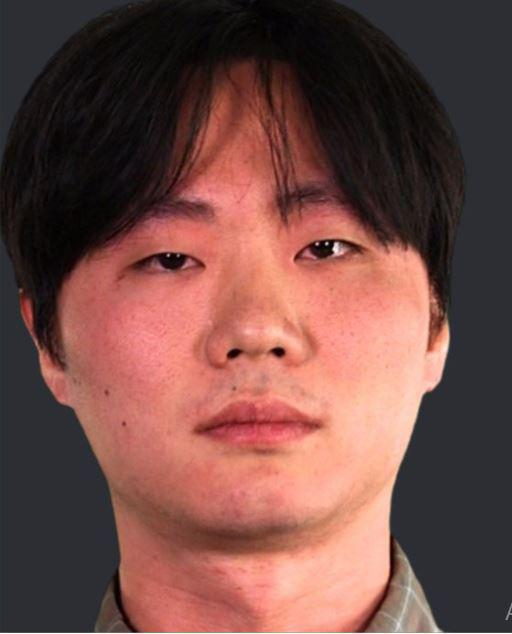Drunk: (71, 75, 412, 516)
